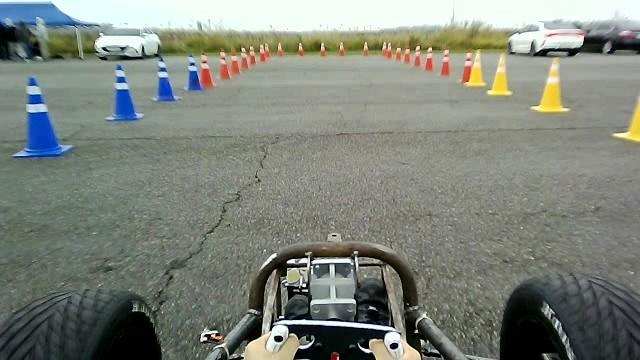blue cone: (11, 75, 74, 157), (104, 63, 144, 121), (149, 55, 182, 102), (184, 53, 204, 92)
red cone: (199, 53, 216, 88), (458, 51, 473, 83), (439, 48, 451, 76), (219, 48, 228, 80)
yellow cone: (530, 56, 570, 112), (488, 52, 514, 94), (463, 48, 487, 87)
